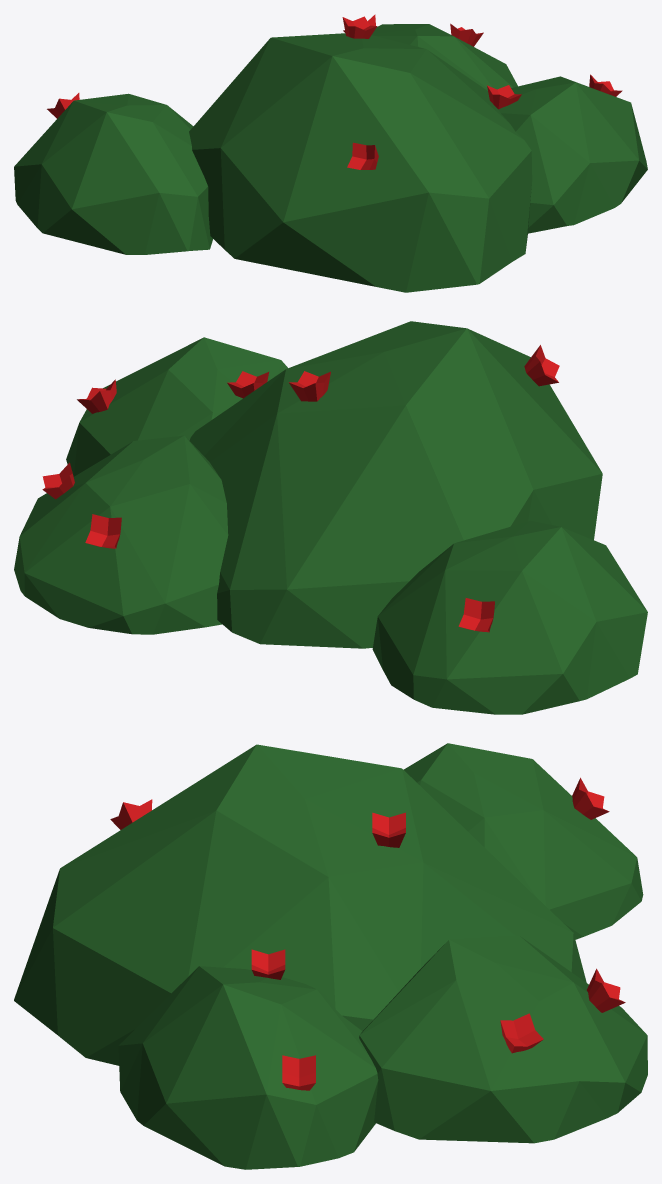
Rendered from Bush1.3.fbx.
The picture shows the model from 3 angles, top to bottom: view 1: azimuth 30°, elevation 25°; view 2: azimuth 150°, elevation 25°; view 3: azimuth 270°, elevation 25°; orthographic projection. The views are drawn at different scales.
Parts seen in each view (by area): view 1: Bush1.3; view 2: Bush1.3; view 3: Bush1.3.
Part boxes in pixels (box(x1,y1,x2,y2)): Bush1.3: box(14, 14, 647, 292); Bush1.3: box(14, 321, 647, 714); Bush1.3: box(14, 743, 647, 1169).
Bounding box in the file's own units: 351 × 116 × 281.
